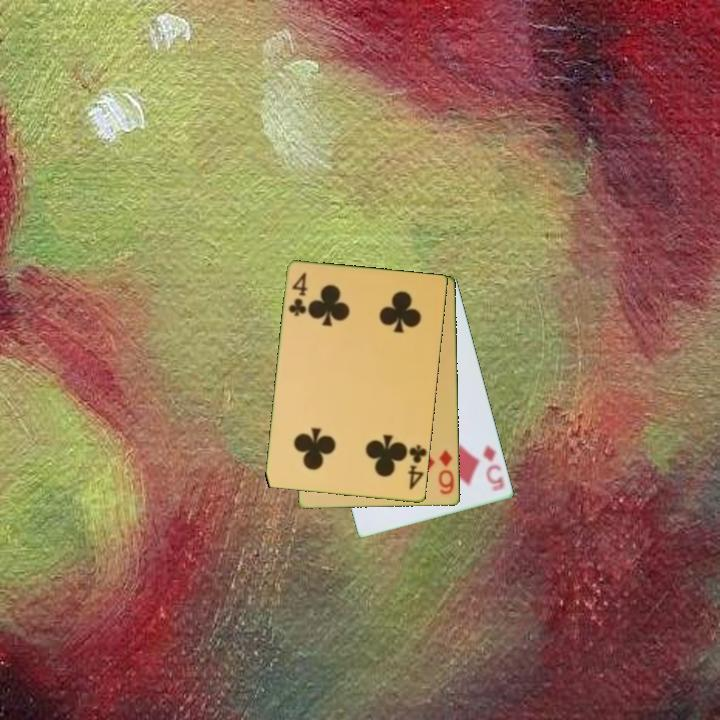4c: (285, 269, 311, 320), (405, 442, 429, 493)
5d: (480, 441, 506, 495)
6d: (435, 447, 457, 498)
